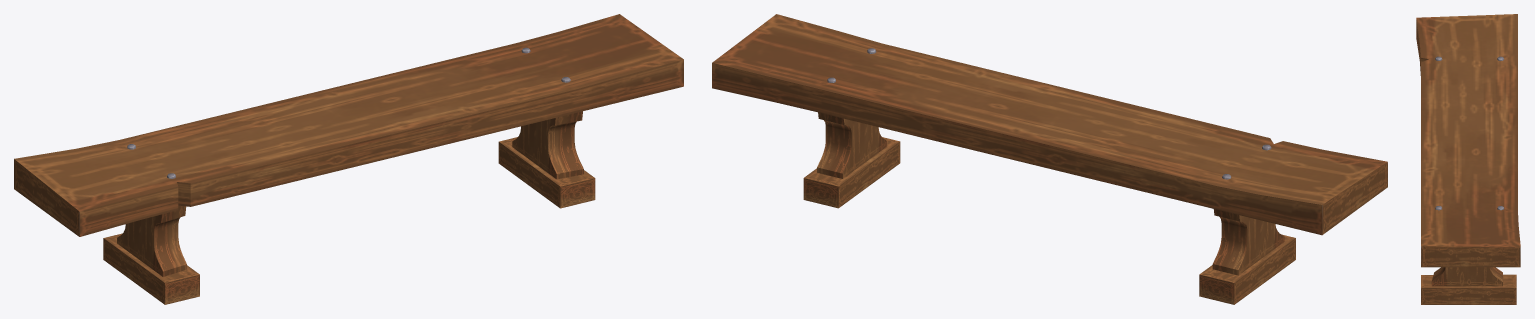
3 renders of one model, left to right at view 1: azimuth 30°, elevation 25°; view 2: azimuth 150°, elevation 25°; view 3: azimuth 270°, elevation 25°, orthographic. The views are drawn at different scales.
Parts seen in each view (by area): view 1: 808fd5c41983b9f83a909094468f5d007a25e97b9a570c95194c20f79946; view 2: 808fd5c41983b9f83a909094468f5d007a25e97b9a570c95194c20f79946; view 3: 808fd5c41983b9f83a909094468f5d007a25e97b9a570c95194c20f79946.
Part boxes in pixels (bbox=[...]): 808fd5c41983b9f83a909094468f5d007a25e97b9a570c95194c20f79946: bbox=[14, 14, 683, 304]; 808fd5c41983b9f83a909094468f5d007a25e97b9a570c95194c20f79946: bbox=[712, 14, 1387, 304]; 808fd5c41983b9f83a909094468f5d007a25e97b9a570c95194c20f79946: bbox=[1416, 14, 1520, 304].
Bounding box in the file's own units: 2.78 × 0.5332 × 0.5343.
2 materials, 2 textured.
